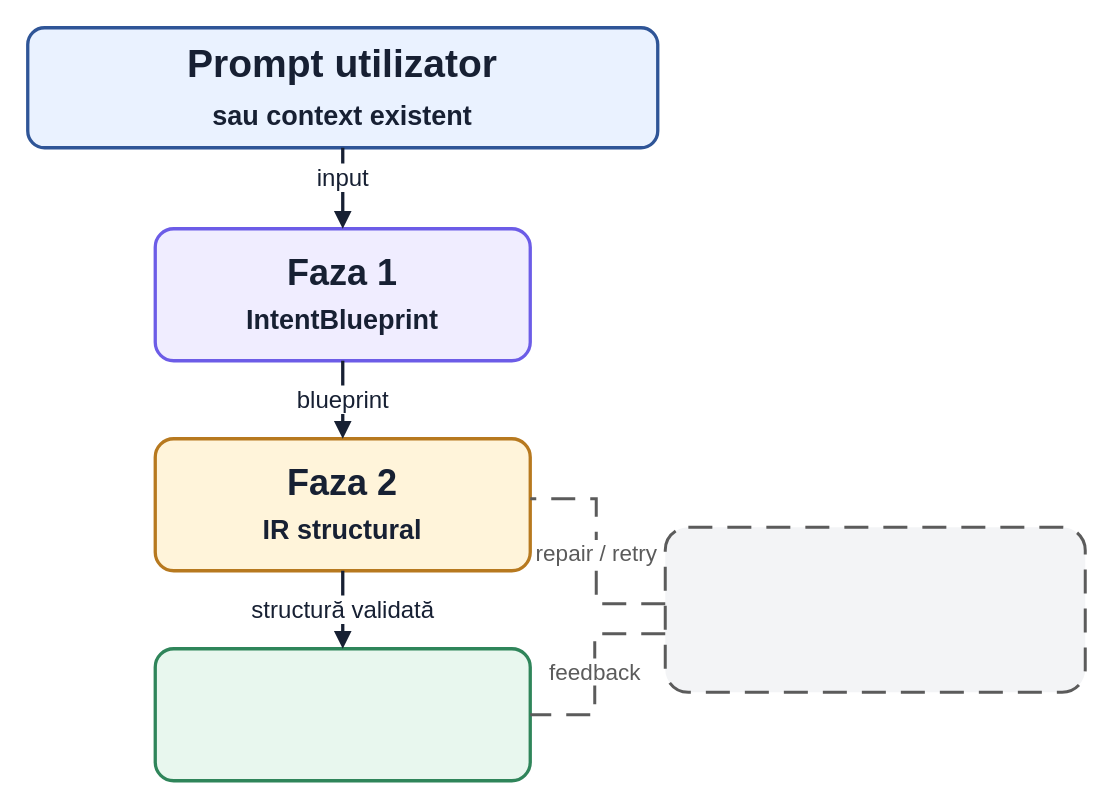
This 1113x809 diagram has some shape labels left out. Here are the shapes that lost their labels. From the top down, the centre of each, then its label:
At point (874, 609): "Validare structurală reîncercare și auto-reparare între faze".
At point (342, 714): "Faza 3 IR stilizat".
